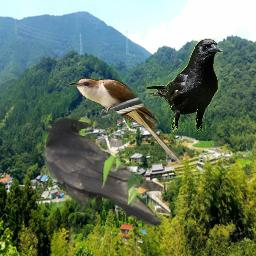Crow: (43, 117, 164, 226), (146, 38, 223, 132)
Cuckoo: (68, 77, 183, 165)
